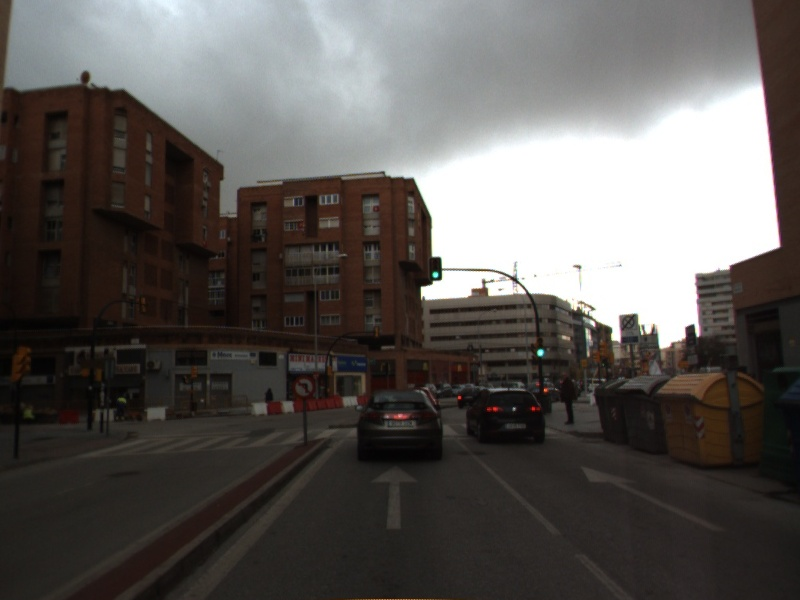STRAIGHT: (578, 464, 725, 533), (368, 464, 421, 531)
